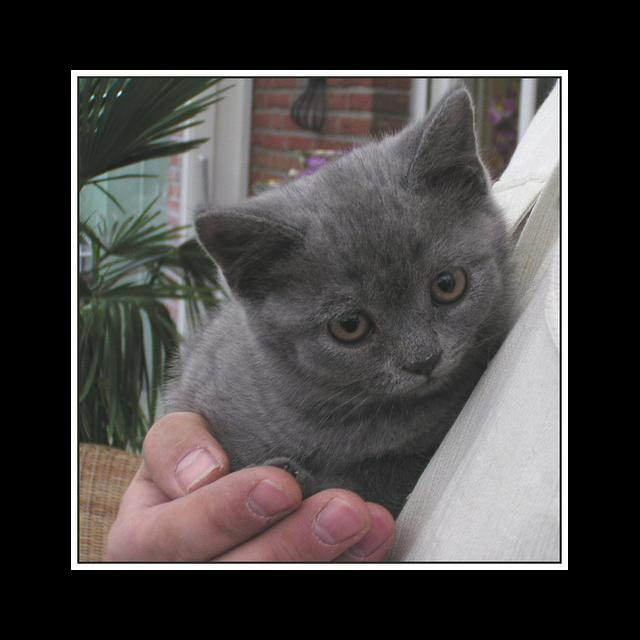animals: (196, 89, 486, 372)
